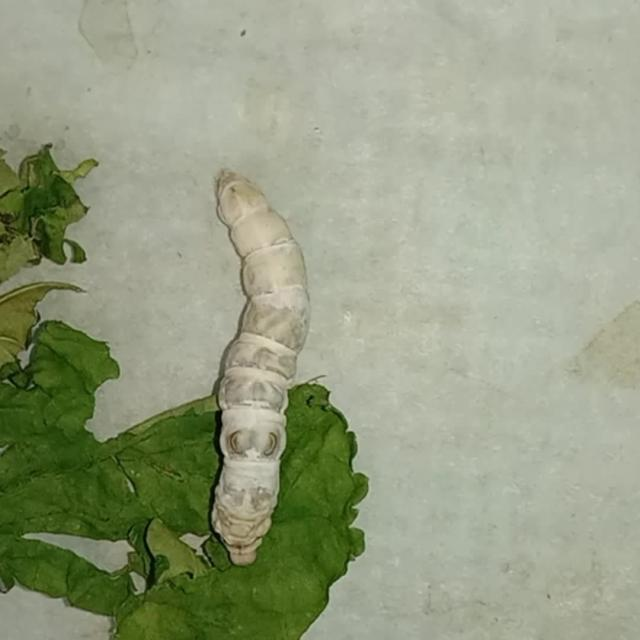Grasserie: (190, 154, 327, 573)
